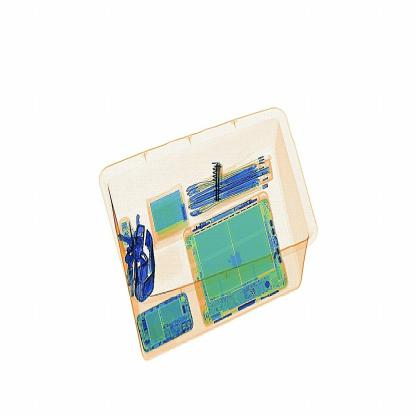scissors: (208, 151, 232, 209)
